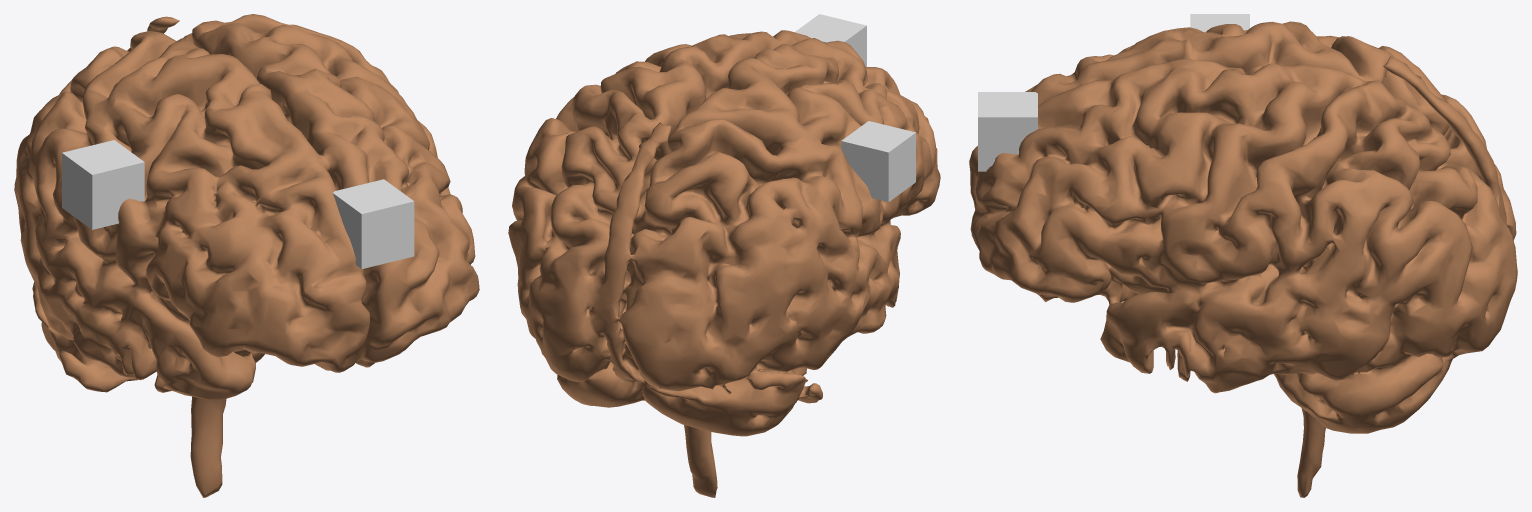
File: brain.gltf
The picture shows the model from 3 angles, left to right: view 1: azimuth 30°, elevation 25°; view 2: azimuth 150°, elevation 25°; view 3: azimuth 270°, elevation 25°; orthographic projection. The views are drawn at different scales.
Visible parts, largest first — view 1: Object_2, Cube.001, Cube; view 2: Object_2, Cube.001, Cube; view 3: Object_2, Cube, Cube.001.
Part boxes in pixels (x1=…): Object_2: x1=14, y1=14, x2=479, y2=497; Cube.001: x1=62, y1=140, x2=144, y2=229; Cube: x1=333, y1=179, x2=414, y2=268; Object_2: x1=508, y1=30, x2=940, y2=497; Cube.001: x1=841, y1=121, x2=915, y2=202; Cube: x1=795, y1=14, x2=866, y2=66; Object_2: x1=969, y1=21, x2=1517, y2=497; Cube: x1=978, y1=92, x2=1037, y2=171; Cube.001: x1=1190, y1=14, x2=1249, y2=32.
Bounding box in the file's own units: 139 × 168 × 183.
